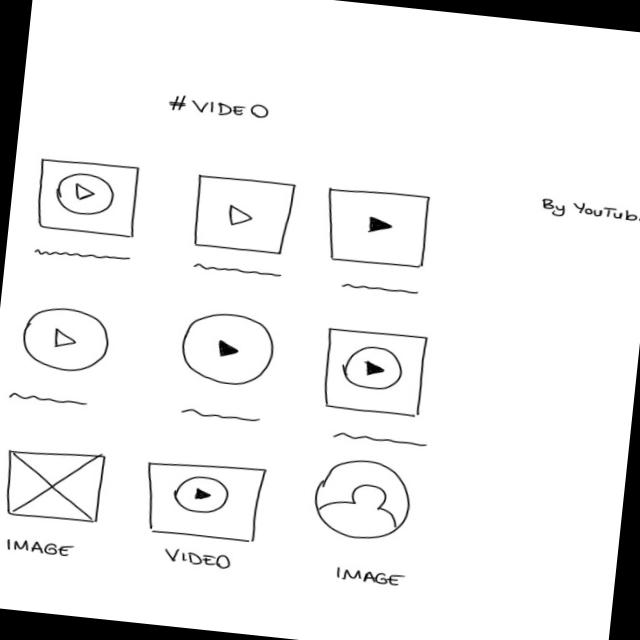image: (306, 454, 416, 545), (0, 443, 110, 527)
label: (164, 90, 272, 122), (537, 194, 640, 227), (0, 535, 78, 560), (161, 546, 237, 571), (332, 564, 408, 588)
text: (31, 245, 133, 266), (330, 428, 430, 449), (176, 404, 264, 426), (190, 259, 284, 279), (6, 389, 90, 409), (338, 280, 426, 296)
